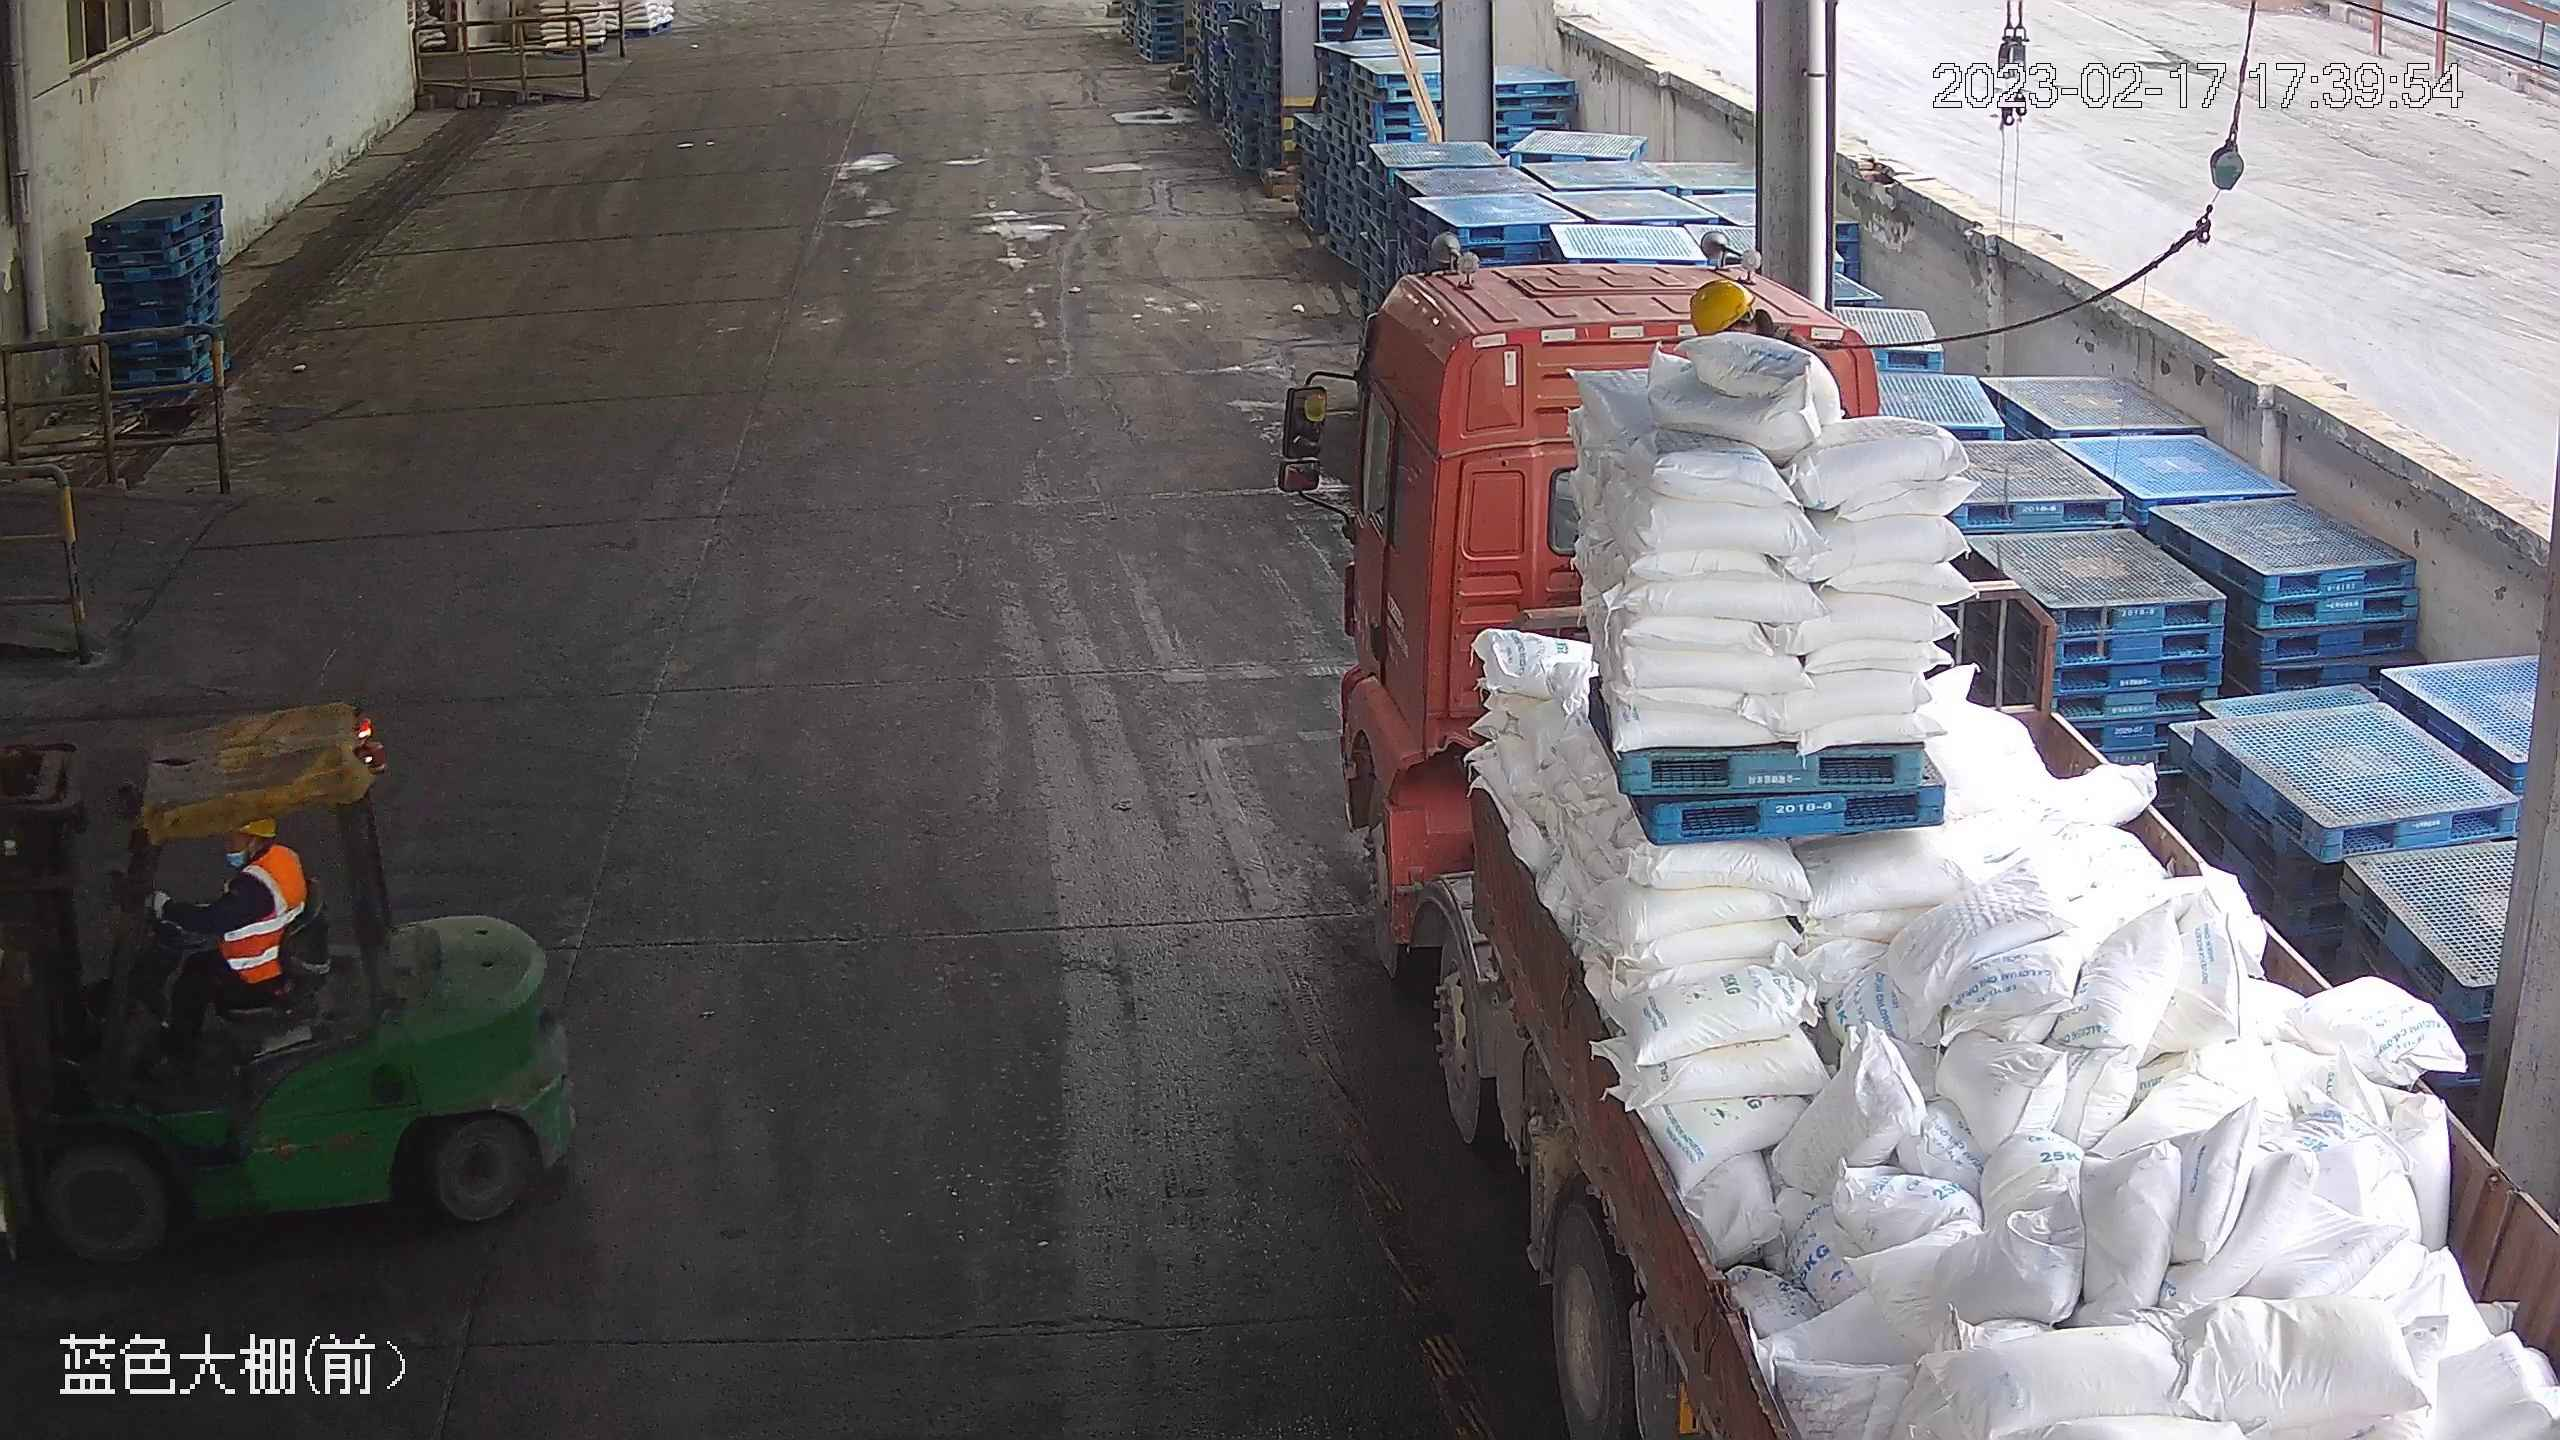head: (209, 813, 307, 907)
helmet: (1686, 275, 1755, 335)
people: (132, 812, 308, 1069)
truck: (1278, 246, 2550, 1436)
